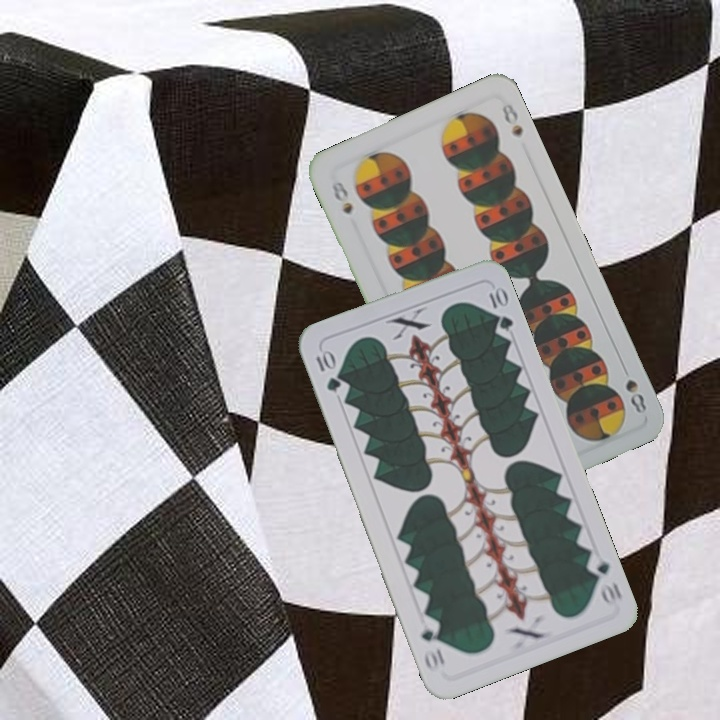G10: (583, 550, 625, 609), (311, 346, 344, 395)
S8: (617, 360, 650, 416), (327, 176, 356, 218)
